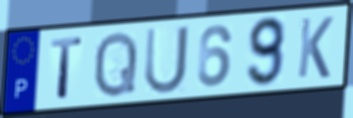6: (196, 23, 236, 90)
9: (244, 14, 287, 90)
K: (295, 14, 336, 80)
Q: (91, 28, 140, 100)
T: (49, 35, 85, 101)
U: (143, 23, 191, 97)
